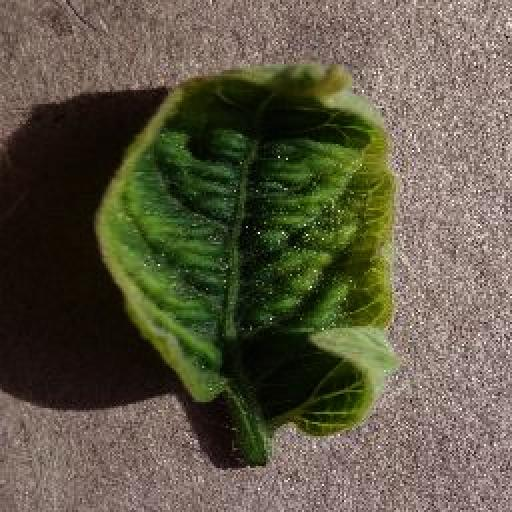disease_tomato: (93, 60, 395, 434)
